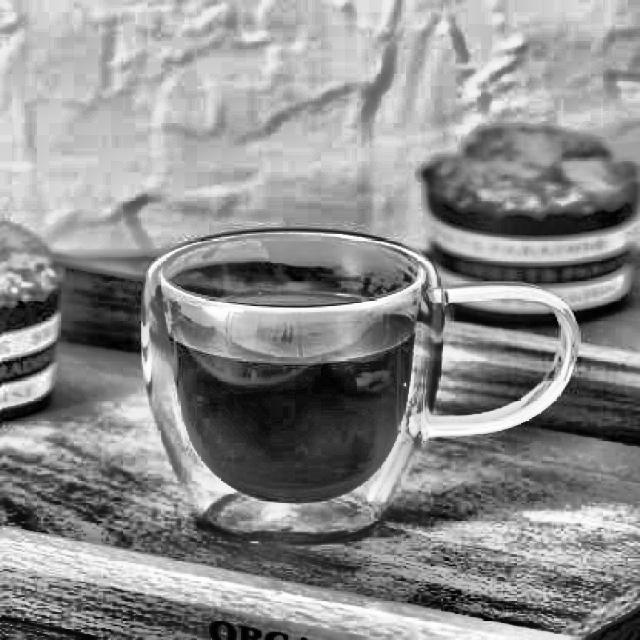Mug: (137, 227, 578, 547)
